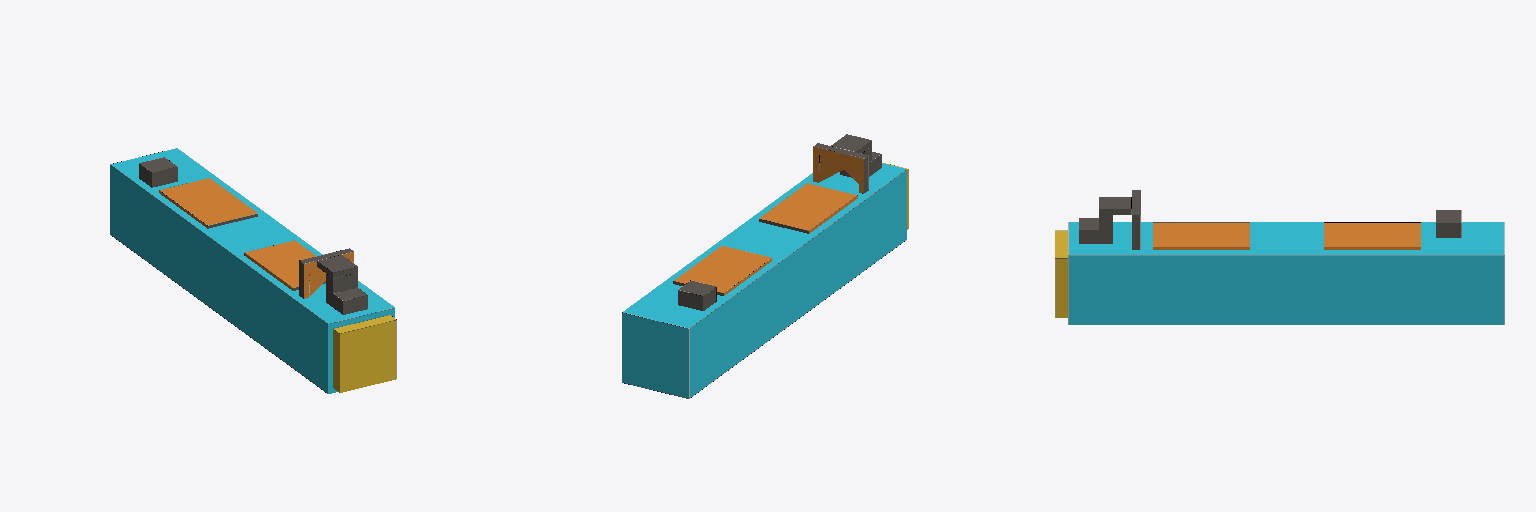
3 renders of one model, left to right at view 1: azimuth 30°, elevation 25°; view 2: azimuth 150°, elevation 25°; view 3: azimuth 270°, elevation 25°, orthographic.
Parts seen in each view (by area): view 1: Cube.001_Cube.007, Plane.001_Plane.009; view 2: Cube.001_Cube.007, Plane.001_Plane.009; view 3: Cube.001_Cube.007, Plane.001_Plane.009.
Part boxes in pixels (left/top/right/bottom): Cube.001_Cube.007: left=110, top=148, right=396, bottom=393; Plane.001_Plane.009: left=139, top=157, right=367, bottom=314; Cube.001_Cube.007: left=622, top=163, right=908, bottom=398; Plane.001_Plane.009: left=673, top=134, right=881, bottom=310; Cube.001_Cube.007: left=1055, top=222, right=1504, bottom=324; Plane.001_Plane.009: left=1079, top=190, right=1461, bottom=249.
Size of the model in its own units: 4 by 6 by 23.16.
2 materials, 2 textured.